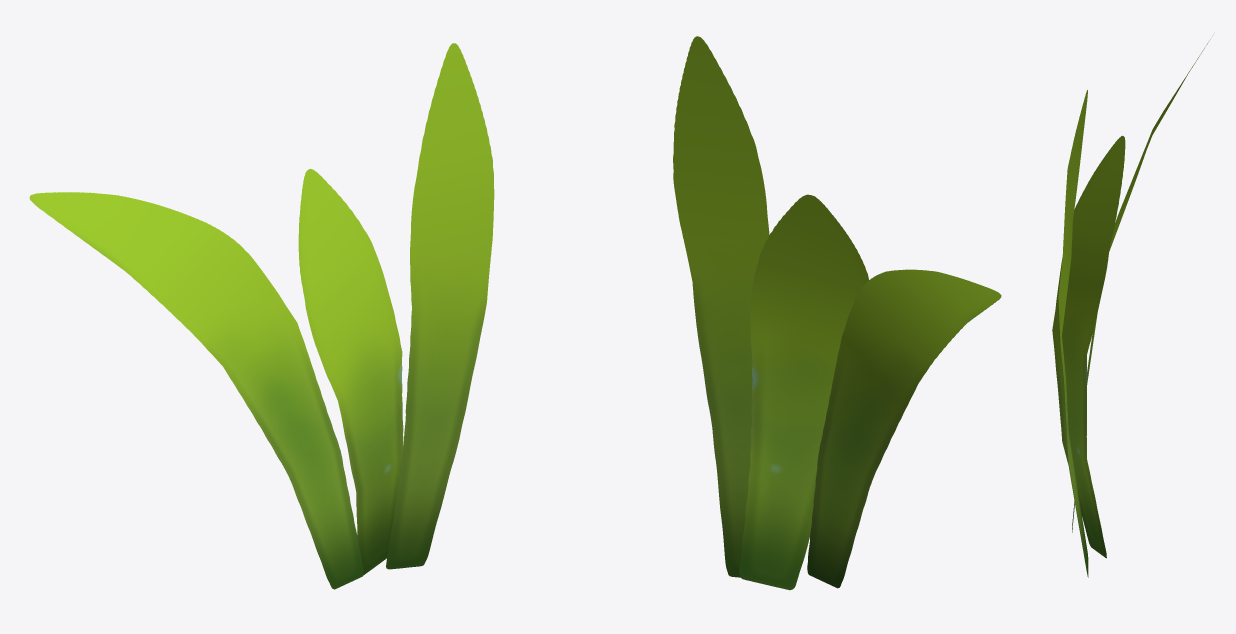
The model's file is Grass_Little.fbx.
The picture shows the model from 3 angles, left to right: view 1: azimuth 30°, elevation 25°; view 2: azimuth 150°, elevation 25°; view 3: azimuth 270°, elevation 25°; orthographic projection. The views are drawn at different scales.
Visible parts, largest first — view 1: Plane.093; view 2: Plane.093; view 3: Plane.093.
Boxes of the visible parts, bbox=[...] form: Plane.093: bbox=[29, 43, 494, 589]; Plane.093: bbox=[673, 36, 1001, 590]; Plane.093: bbox=[1052, 39, 1210, 577].
Bounding box in the file's own units: 48.51 × 54.72 × 16.61.
1 material, 1 textured.
